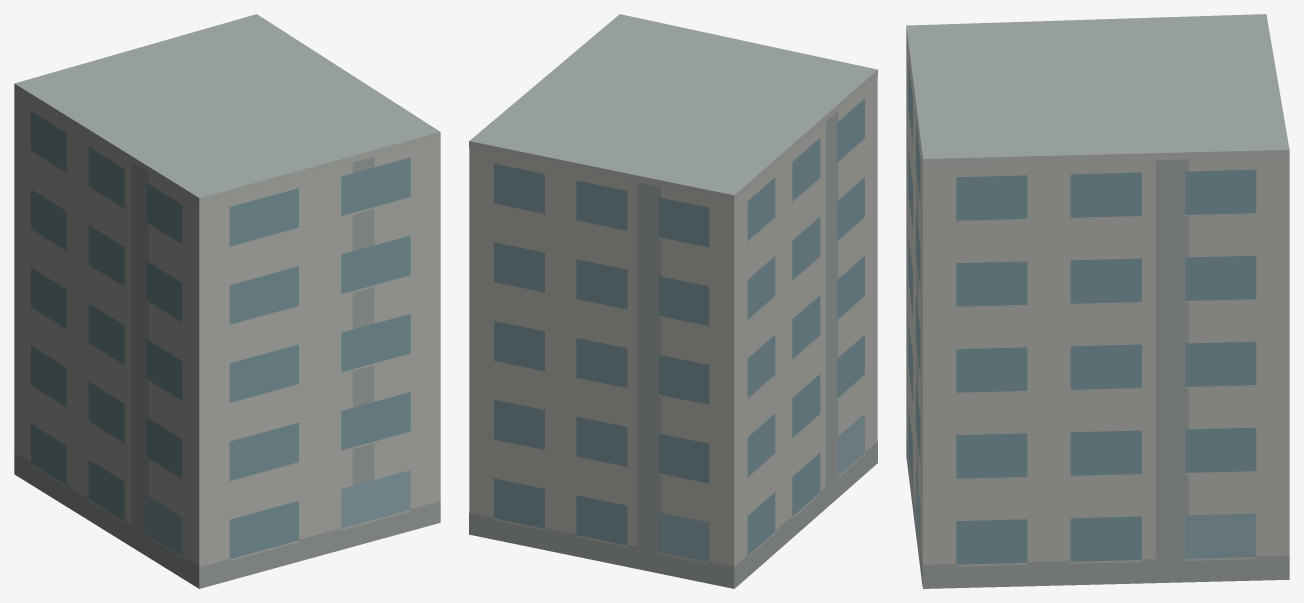
The model's file is survey-upis-32973249.glb.
The picture shows the model from 3 angles, left to right: view 1: azimuth 30°, elevation 25°; view 2: azimuth 150°, elevation 25°; view 3: azimuth 270°, elevation 25°; orthographic projection. The views are drawn at different scales.
Parts seen in each view (by area): view 1: survey-upis-32973249.tmp; view 2: survey-upis-32973249.tmp; view 3: survey-upis-32973249.tmp.
Part boxes in pixels (box(x1,y1,x2,y2)): survey-upis-32973249.tmp: box(14, 14, 440, 588); survey-upis-32973249.tmp: box(469, 14, 877, 588); survey-upis-32973249.tmp: box(906, 14, 1289, 588).
Size of the model in its own units: 10.49 by 14.5 by 11.73.
